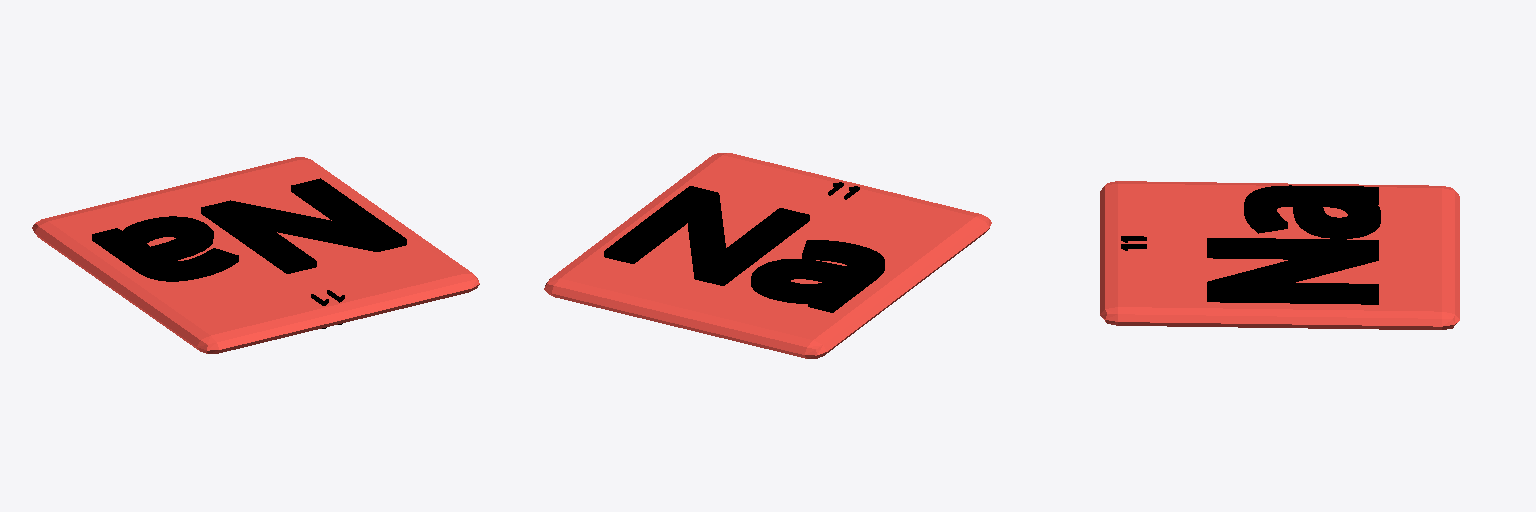
3 views of the same model, side by side, from view 1: azimuth 30°, elevation 25°; view 2: azimuth 150°, elevation 25°; view 3: azimuth 270°, elevation 25° (orthographic).
Visible parts, largest first — view 1: 121_Box_3, 119_Na_-_N, 120_Na_-_a; view 2: 121_Box_3, 119_Na_-_N, 120_Na_-_a; view 3: 121_Box_3, 119_Na_-_N, 120_Na_-_a.
Boxes of the visible parts, x1,y1,x2,y2 form: 121_Box_3: [32, 157, 479, 353]; 119_Na_-_N: [201, 178, 406, 273]; 120_Na_-_a: [92, 216, 238, 281]; 121_Box_3: [544, 153, 991, 358]; 119_Na_-_N: [604, 186, 809, 285]; 120_Na_-_a: [751, 240, 884, 312]; 121_Box_3: [1100, 181, 1459, 329]; 119_Na_-_N: [1207, 238, 1378, 304]; 120_Na_-_a: [1244, 185, 1380, 238].
Size of the model in its own units: 9 by 0.9752 by 10.